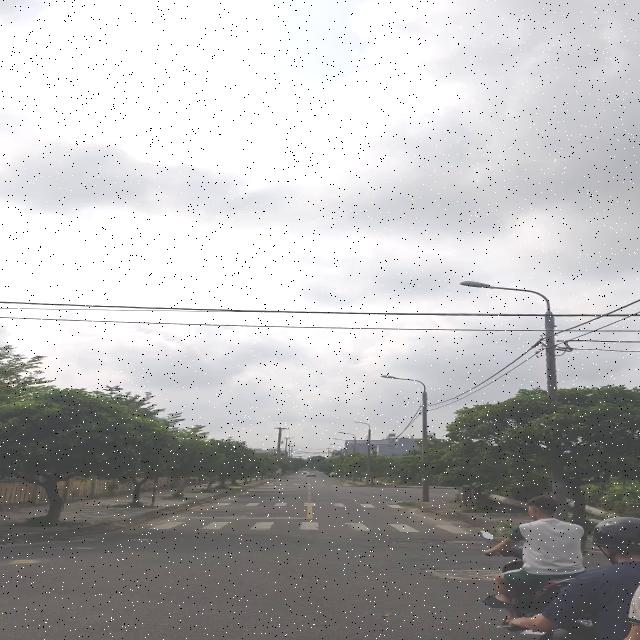helmet: (584, 516, 640, 570)
no_helmet: (523, 493, 569, 518)
